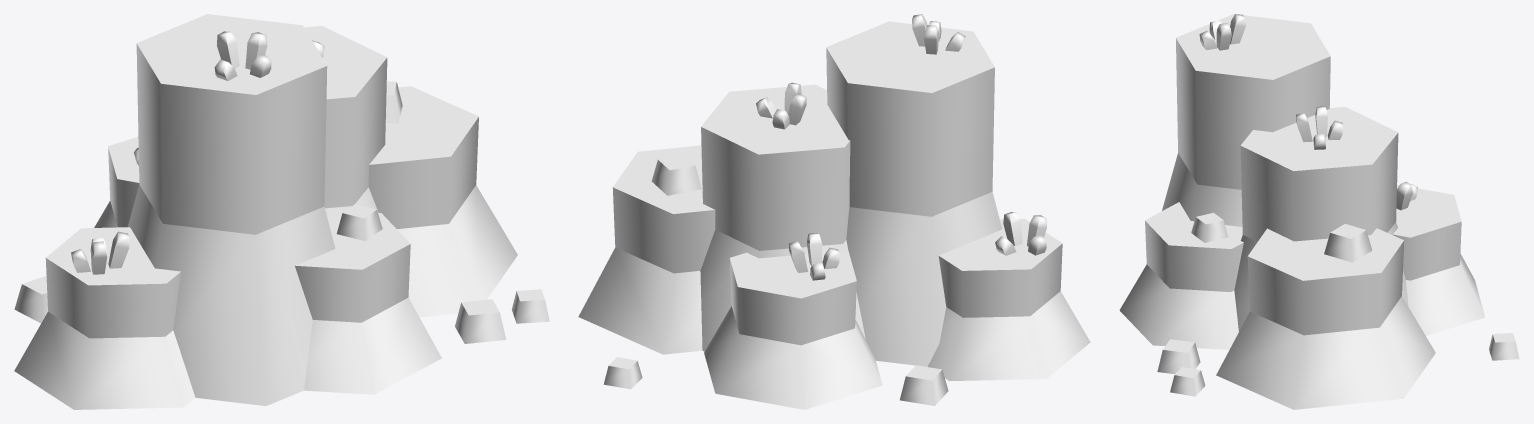
File: rocks-sand-a.glb
The picture shows the model from 3 angles, left to right: view 1: azimuth 30°, elevation 25°; view 2: azimuth 150°, elevation 25°; view 3: azimuth 270°, elevation 25°; orthographic projection. The views are drawn at different scales.
Visible parts, largest first — view 1: rocks-sand-a; view 2: rocks-sand-a; view 3: rocks-sand-a.
Boxes of the visible parts, x1,y1,x2,y2 form: rocks-sand-a: (14, 14, 549, 409); rocks-sand-a: (578, 14, 1090, 409); rocks-sand-a: (1119, 14, 1519, 409).
Bounding box in the file's own units: 5.11 × 3.21 × 4.39.
1 material, 1 textured.
